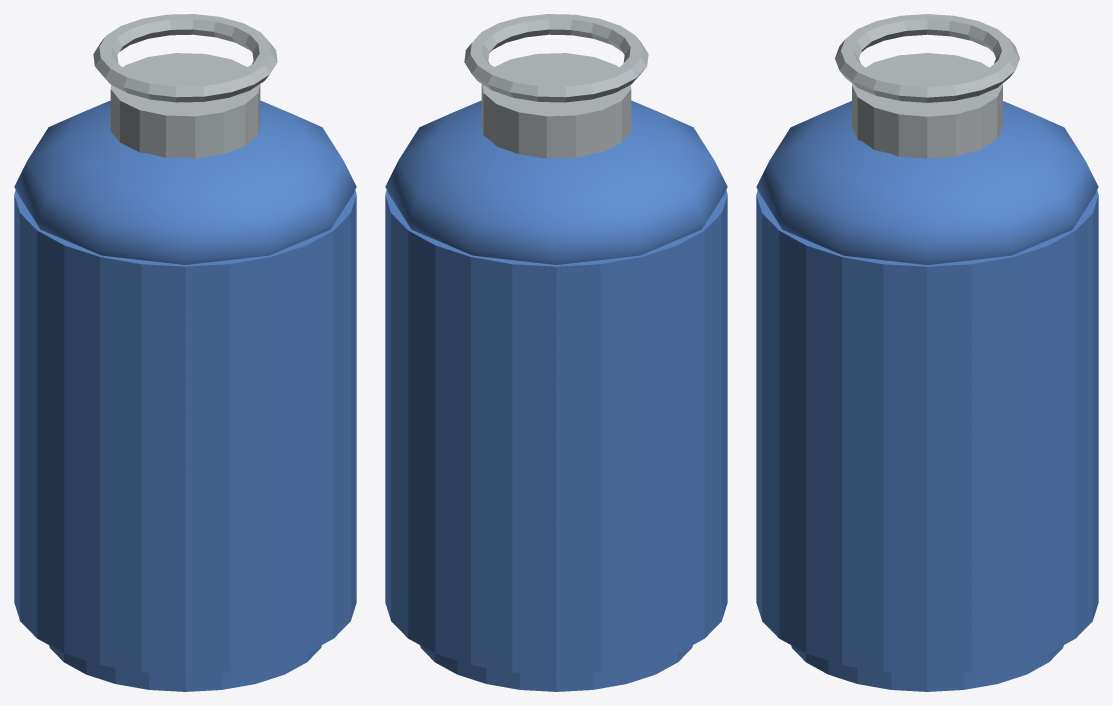
File: gas_cylinder_12kg_blue.glb
3 renders of one model, left to right at view 1: azimuth 30°, elevation 25°; view 2: azimuth 150°, elevation 25°; view 3: azimuth 270°, elevation 25°, orthographic.
Visible parts, largest first — view 1: gas bottle, cylinder shoulder, cylinder neck, guard hoop, foot ring; view 2: gas bottle, cylinder shoulder, cylinder neck, guard hoop, foot ring; view 3: gas bottle, cylinder shoulder, cylinder neck, guard hoop, foot ring.
Part boxes in pixels (left/top/right/bottom): gas bottle: left=14, top=190, right=356, bottom=674; cylinder shoulder: left=14, top=100, right=356, bottom=264; cylinder neck: left=110, top=53, right=260, bottom=158; guard hoop: left=93, top=14, right=277, bottom=102; foot ring: left=49, top=645, right=321, bottom=691; gas bottle: left=385, top=190, right=727, bottom=674; cylinder shoulder: left=385, top=100, right=727, bottom=264; cylinder neck: left=481, top=53, right=631, bottom=158; guard hoop: left=464, top=14, right=648, bottom=102; foot ring: left=420, top=645, right=692, bottom=691; gas bottle: left=756, top=190, right=1098, bottom=674; cylinder shoulder: left=756, top=101, right=1098, bottom=264; cylinder neck: left=852, top=53, right=1002, bottom=158; guard hoop: left=835, top=14, right=1019, bottom=102; foot ring: left=791, top=645, right=1063, bottom=691.
Size of the model in its own units: 0.32 by 0.6003 by 0.32.
